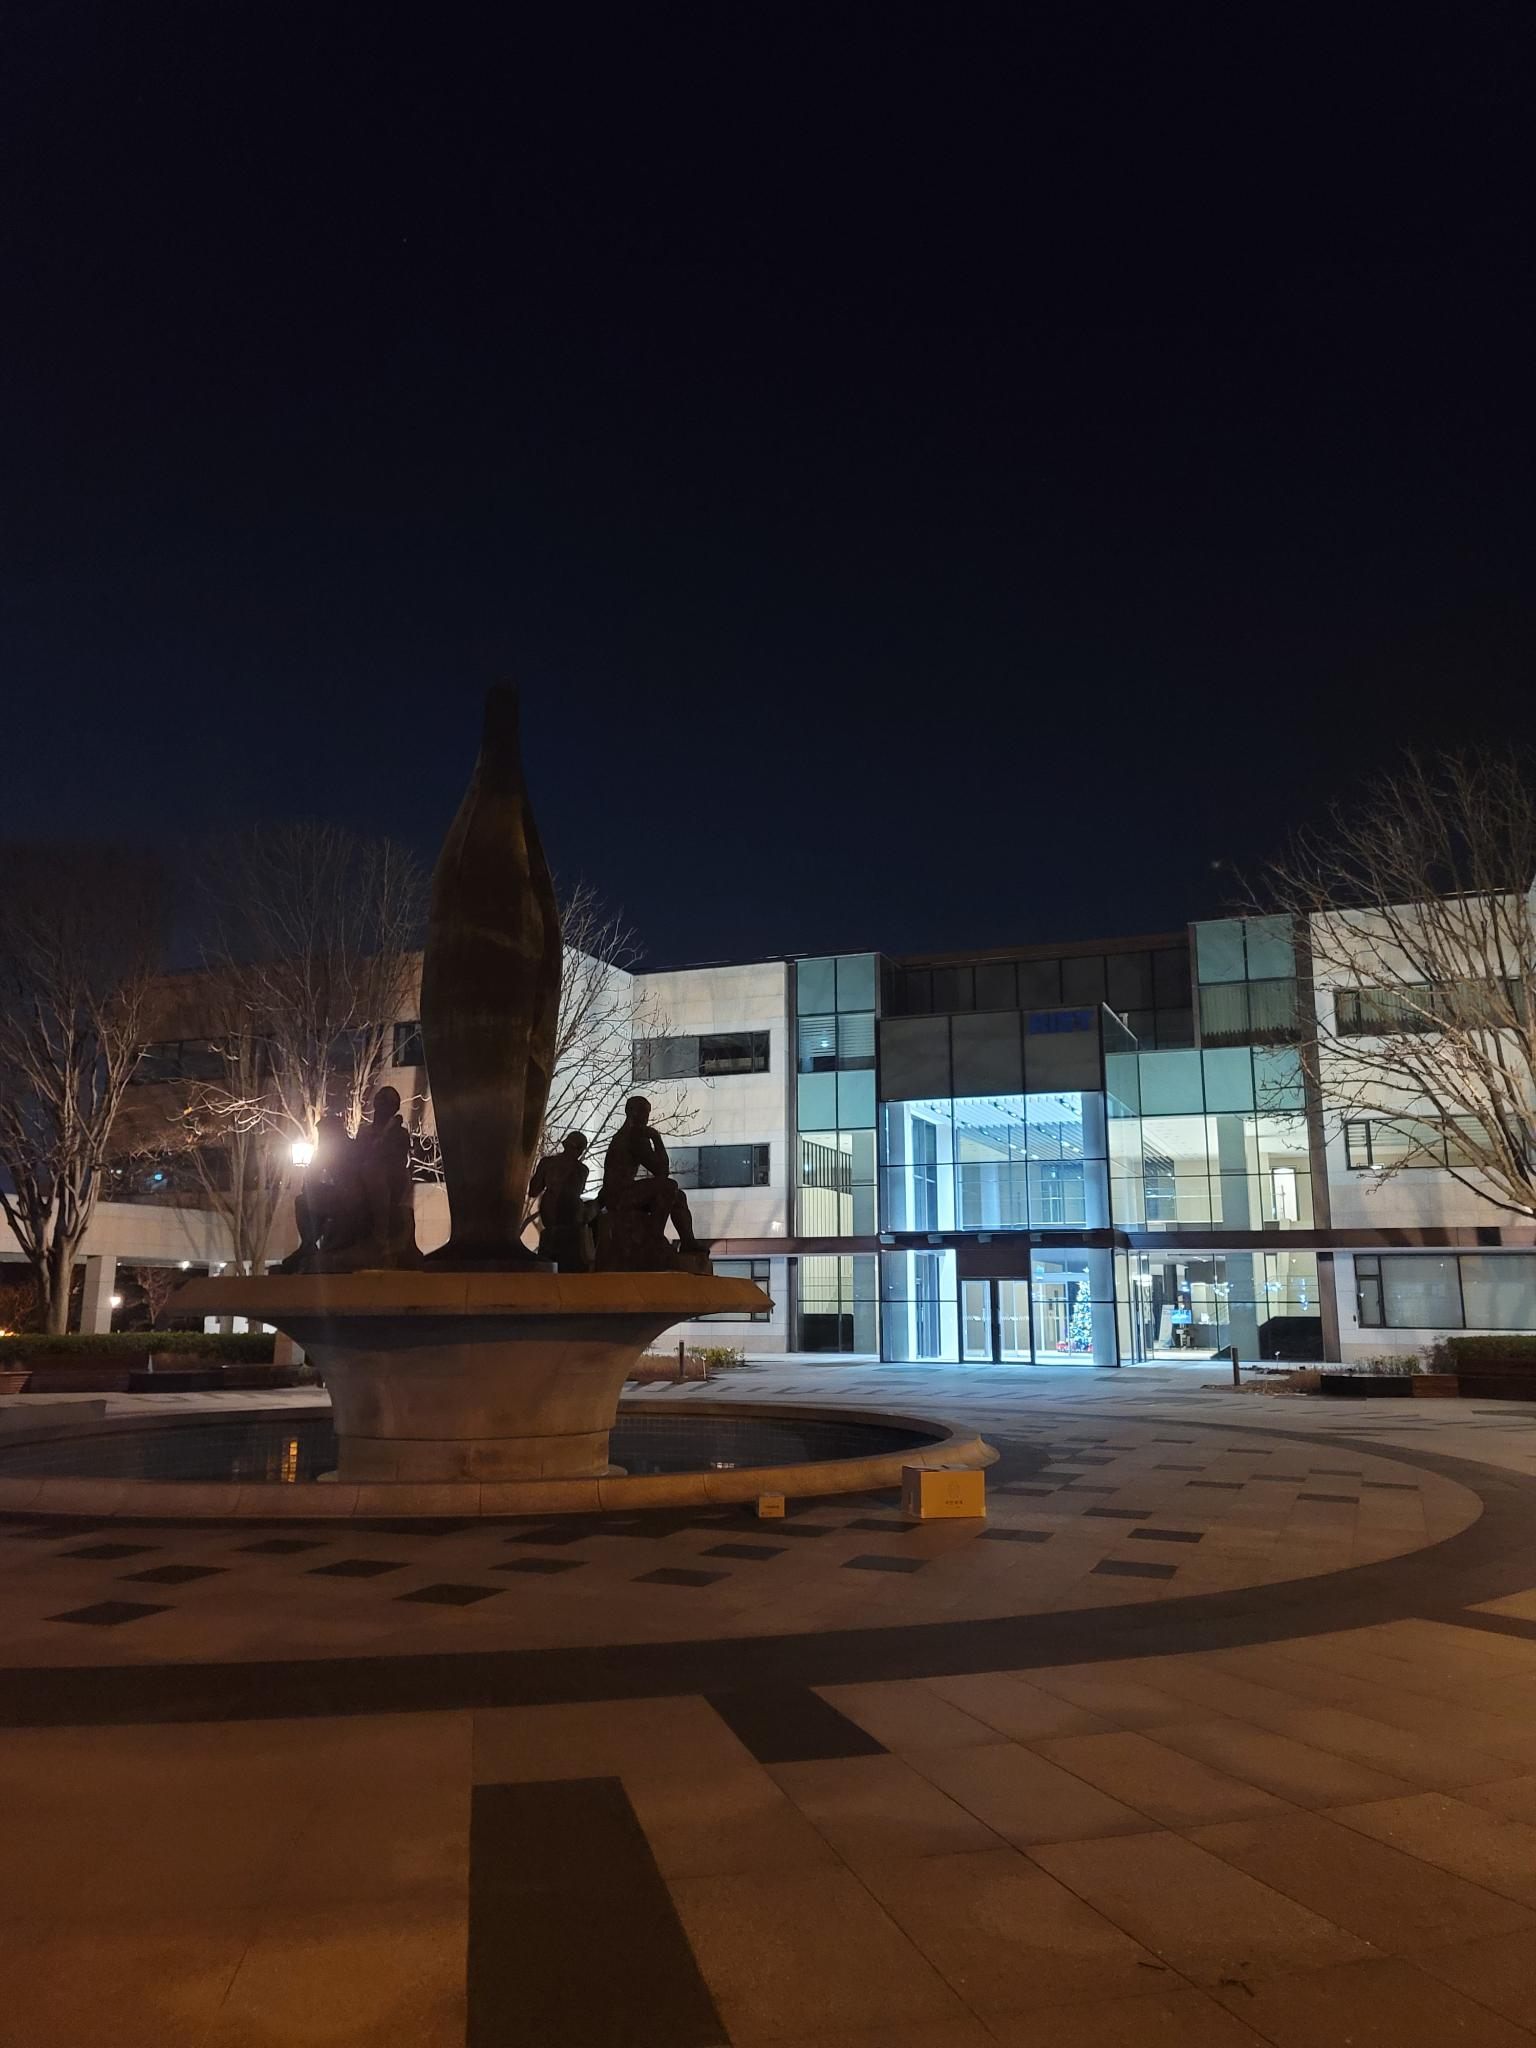Box: (900, 1455, 987, 1521), (755, 1488, 792, 1517)
